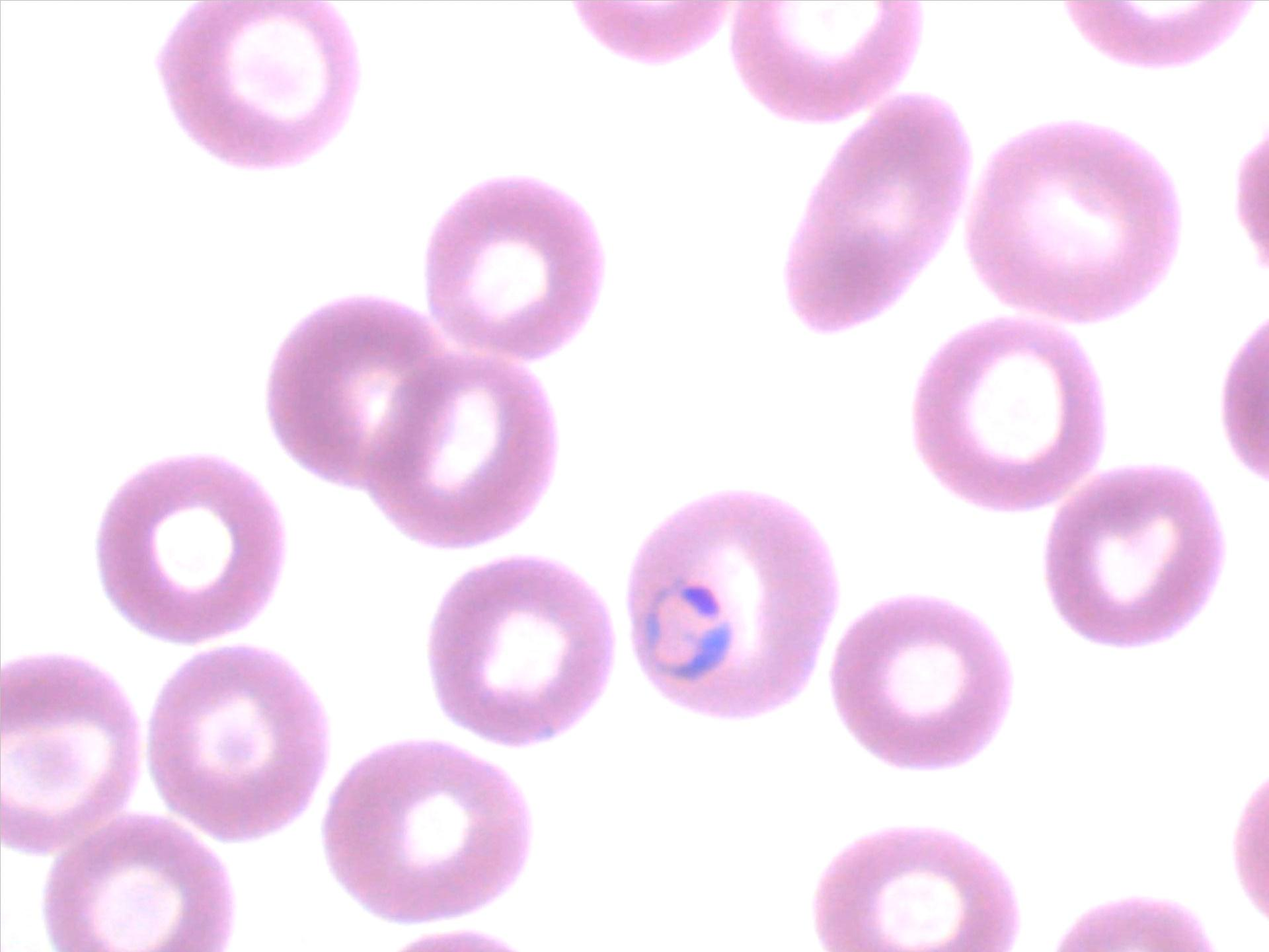Infected: (626, 487, 834, 713)
Uninfected: (791, 91, 974, 339), (967, 117, 1181, 328), (326, 743, 533, 927), (368, 355, 561, 551), (269, 294, 458, 492), (908, 320, 1107, 507), (90, 452, 282, 644), (150, 3, 361, 166), (150, 648, 326, 843), (432, 556, 611, 745), (423, 179, 601, 364), (833, 593, 1010, 776), (1046, 470, 1225, 644), (42, 807, 238, 952), (0, 650, 137, 857), (813, 824, 1019, 952), (736, 0, 921, 131)
